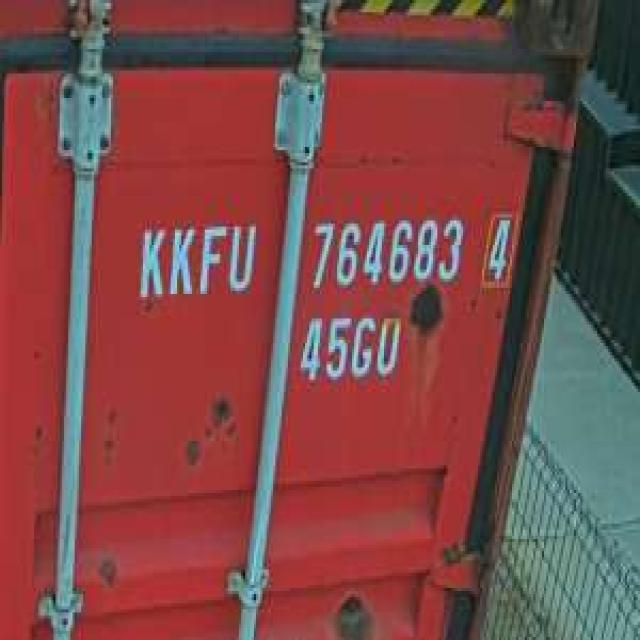dv: (478, 205, 518, 288)
owner: (132, 212, 260, 310)
serial: (305, 205, 465, 294)
size: (294, 306, 404, 389)
